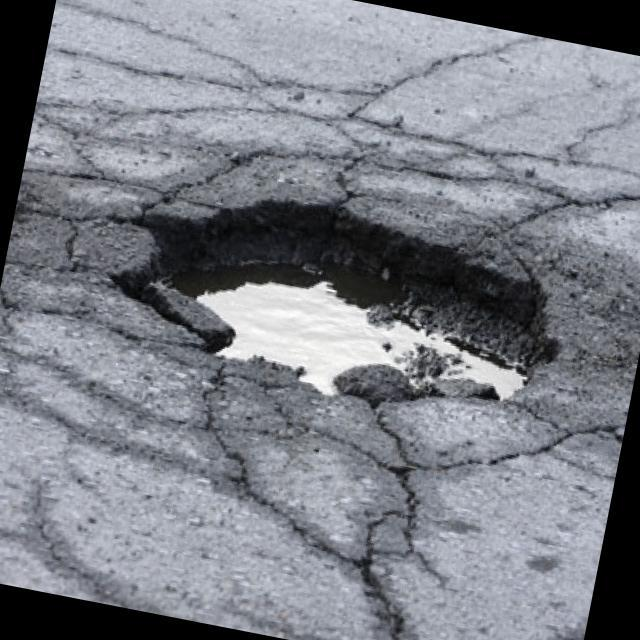Pothole: (98, 146, 600, 477)
